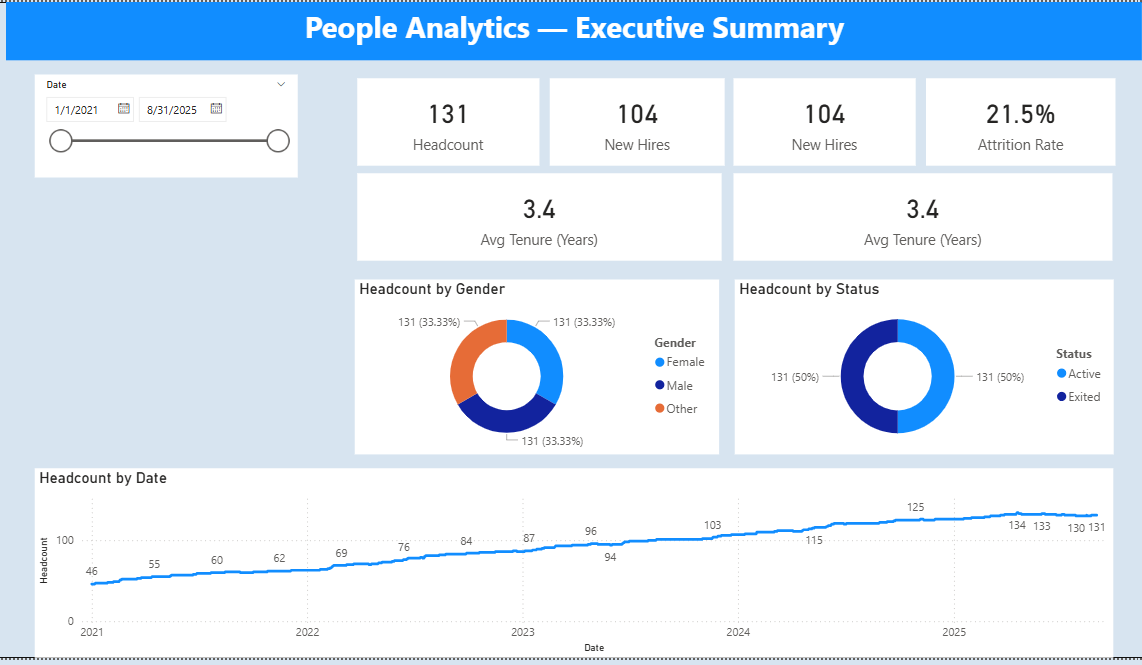

This screenshot's page, from the dashboard's own definition file:
{"tool":"powerbi","page":{"name":"Executive Summary","canvas":[1280,720],"ordinal":0},"visuals":[{"type":"textbox","box":[16,0,1248,64],"z":0},{"type":"slicer","fields":{"Values":["dim_date.Date"]},"box":[48,80,288,112],"z":2000},{"type":"card","fields":{"Values":["dim_employee.Headcount"]},"box":[402.2,84.1,200,96],"z":3000},{"type":"card","fields":{"Values":["dim_employee.New Hires"]},"box":[612.8,84.1,192,96],"z":4000},{"type":"card","fields":{"Values":["dim_employee.New Hires"]},"box":[815.5,84.1,200,96],"z":5000},{"type":"card","fields":{"Values":["dim_employee.Attrition Rate"]},"box":[1026.2,84.1,208,96],"z":6000},{"type":"card","fields":{"Values":["dim_employee.Avg Tenure (Years)"]},"box":[401.7,188.1,400,96],"z":7000},{"type":"card","fields":{"Values":["dim_employee.Avg Tenure (Years)"]},"box":[814.7,188.1,416,96],"z":8000},{"type":"lineChart","fields":{"Category":["dim_date.Date"],"Y":["dim_employee.Headcount"]},"box":[48,512,1184,208],"z":9000},{"type":"donutChart","fields":{"Category":["dim_employee.Gender"],"Y":["dim_employee.Headcount"]},"box":[400,304,400,192],"z":10000},{"type":"donutChart","fields":{"Category":["dim_employee.Status"],"Y":["dim_employee.Headcount"]},"box":[816,304,416,192],"z":11000}]}

Visuals, with their boxes on the page's 1280x720 design canvas (x1, y1, x2, y2). These are canvas units, not pixel positions in the 1142x665 screenshot, which may show the page scaled, cropped or inside an application window:
textbox: (16, 0, 1264, 64)
slicer - dim_date.Date: (48, 80, 336, 192)
card - dim_employee.Headcount: (402, 84, 602, 180)
card - dim_employee.New Hires: (613, 84, 805, 180)
card - dim_employee.New Hires: (816, 84, 1016, 180)
card - dim_employee.Attrition Rate: (1026, 84, 1234, 180)
card - dim_employee.Avg Tenure (Years): (402, 188, 802, 284)
card - dim_employee.Avg Tenure (Years): (815, 188, 1231, 284)
lineChart - dim_date.Date x dim_employee.Headcount: (48, 512, 1232, 720)
donutChart - dim_employee.Gender x dim_employee.Headcount: (400, 304, 800, 496)
donutChart - dim_employee.Status x dim_employee.Headcount: (816, 304, 1232, 496)
